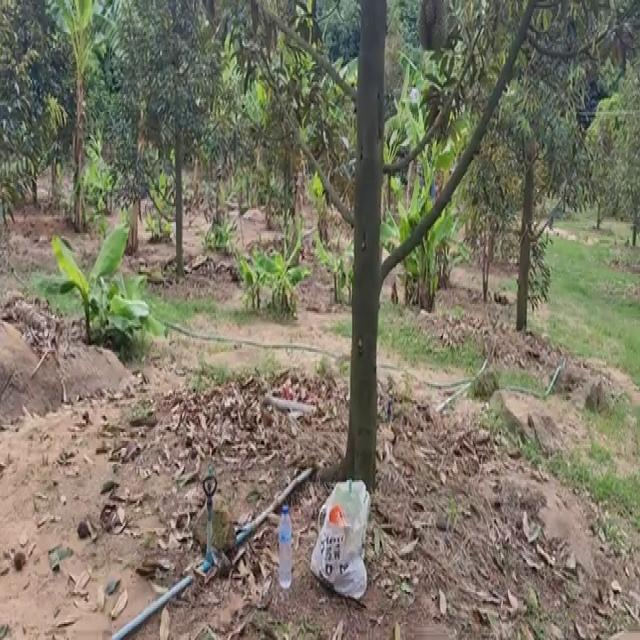durian: (417, 0, 450, 59)
